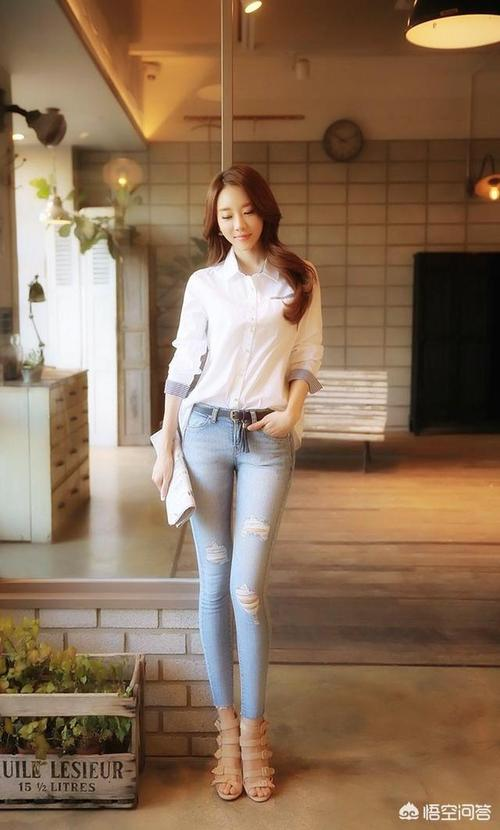up: (144, 158, 334, 814)
